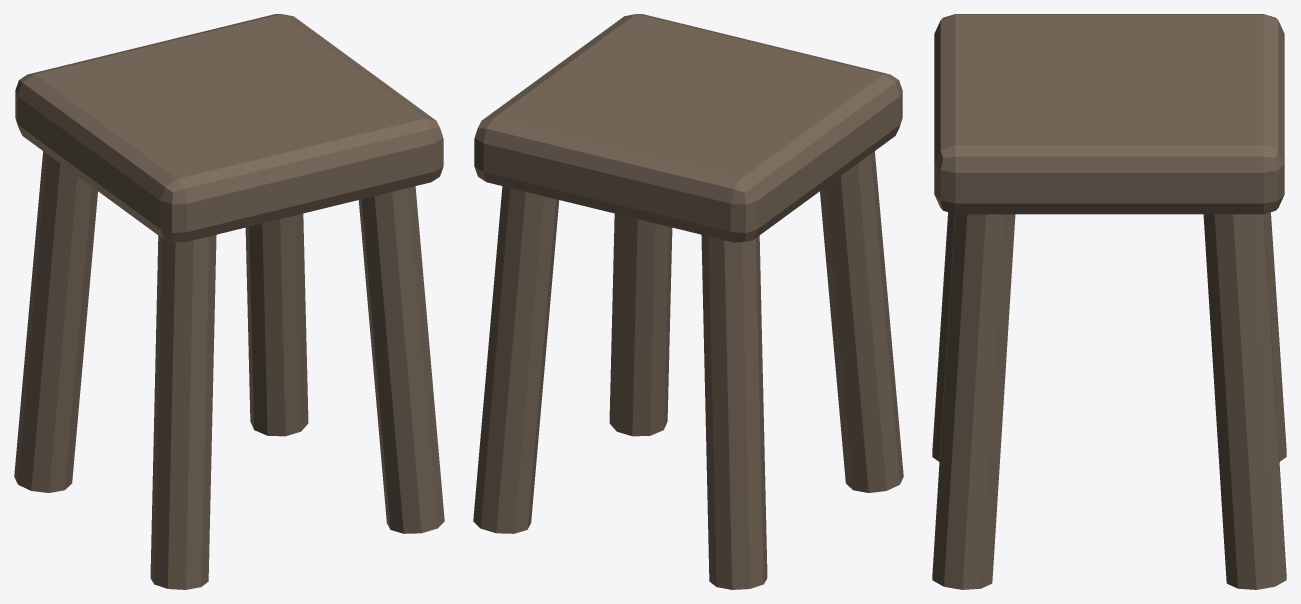
Rendered from wood_stool.glb.
3 views of the same model, side by side, from view 1: azimuth 30°, elevation 25°; view 2: azimuth 150°, elevation 25°; view 3: azimuth 270°, elevation 25° (orthographic). The views are drawn at different scales.
Visible parts, largest first — view 1: Body.077; view 2: Body.077; view 3: Body.077.
Part boxes in pixels (x1,y1,x2,y2): Body.077: (14, 14, 444, 589); Body.077: (473, 14, 903, 589); Body.077: (932, 14, 1286, 589).
Size of the model in its own units: 0.3059 by 0.4147 by 0.3033.
